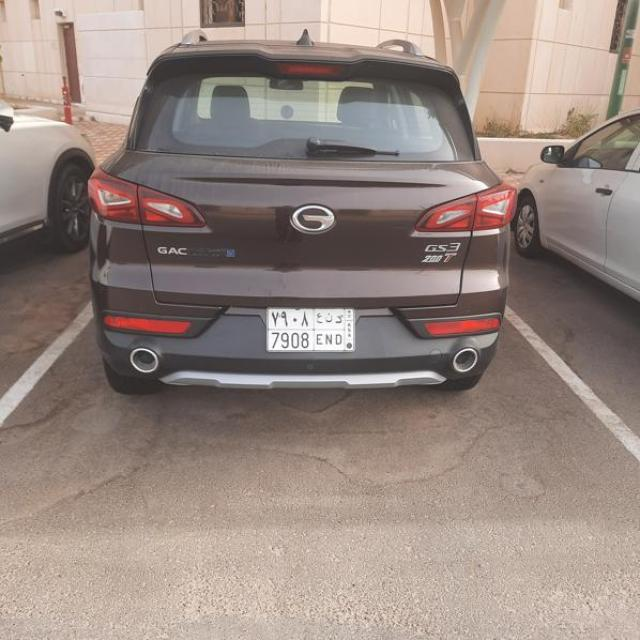license_plate: (268, 307, 356, 352)
